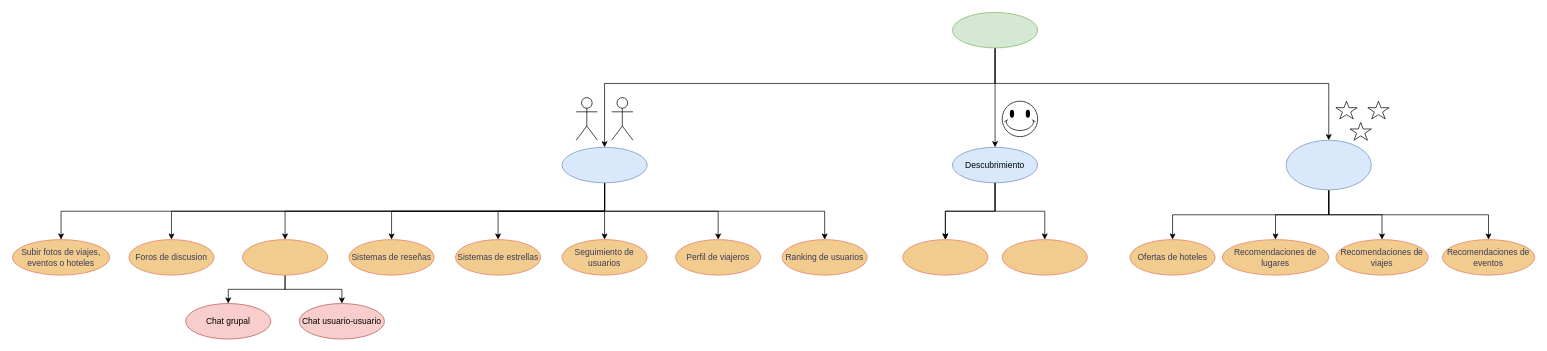
The diagram is 1547 pixels wide and 351 high, and some of its shapes have lost their labels. Here are the shapes that lost their labels. From the top down, the centre of each, then its label:
At [995,30]: "App Viajeros Deluxe".
At [604,165]: "Interaccion entre usuarios".
At [1328,165]: "Recomendaciones Deluxe".
At [285,257]: "Chats".
At [945,257]: "Busqueda por filtros".
At [1044,257]: "Listado de eventos".
